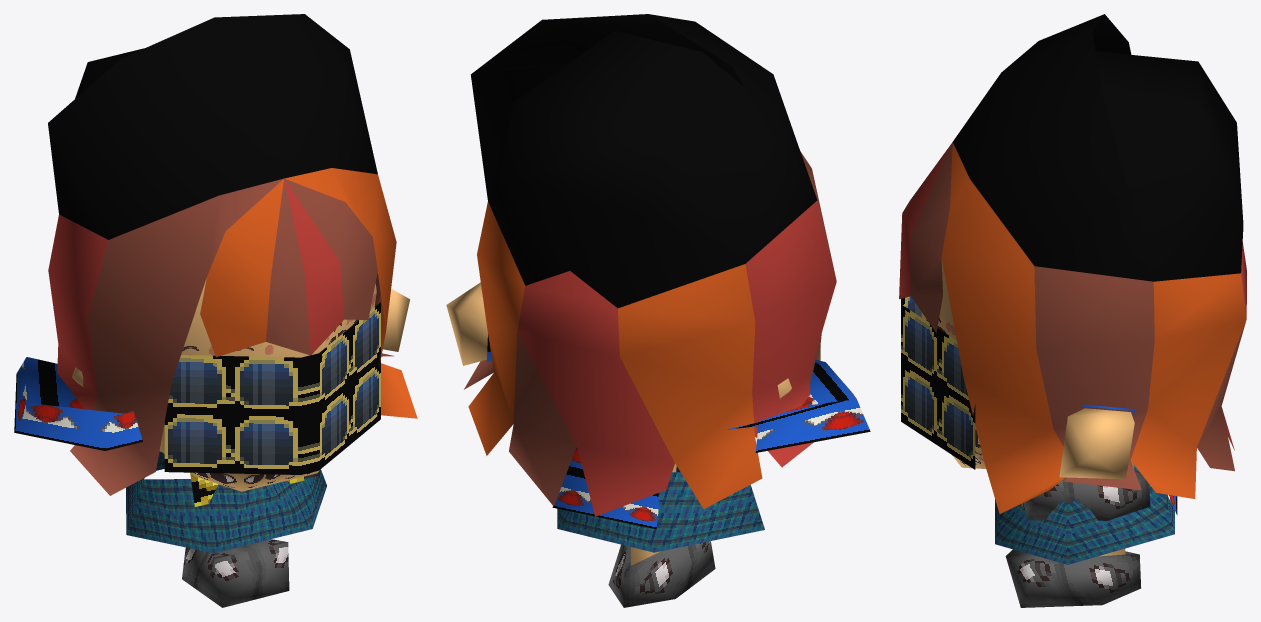
The picture shows the model from 3 angles, left to right: view 1: azimuth 30°, elevation 25°; view 2: azimuth 150°, elevation 25°; view 3: azimuth 270°, elevation 25°; orthographic projection. The views are drawn at different scales.
Parts seen in each view (by area): view 1: pmd04_11_01; view 2: pmd04_11_01; view 3: pmd04_11_01.
Part boxes in pixels (<box>): pmd04_11_01: <box>14,14,417,607</box>; pmd04_11_01: <box>446,14,870,607</box>; pmd04_11_01: <box>899,14,1246,607</box>.
Bounding box in the file's own units: 1.22 × 1.6 × 0.9084.
9 materials, 9 textured.
